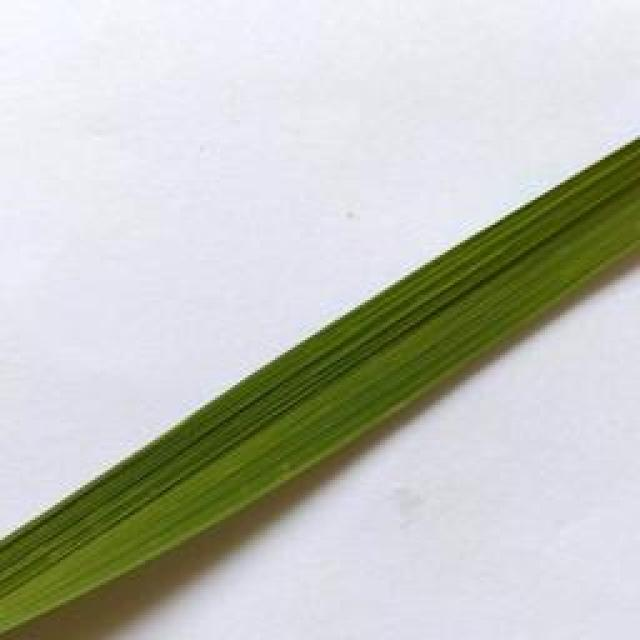Healthy-Plant: (0, 136, 640, 640)
